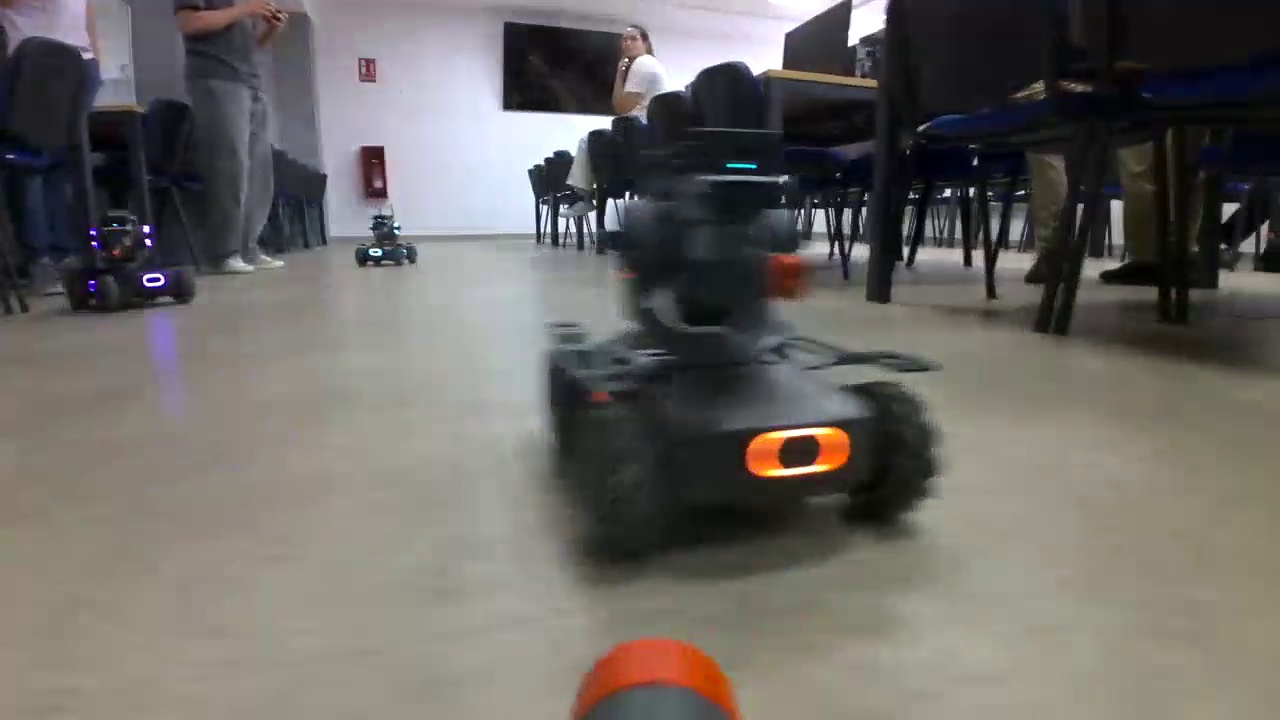robot: (545, 160, 945, 560), (62, 210, 197, 330), (355, 210, 418, 268)
